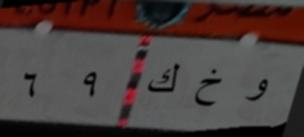6: (16, 71, 49, 99)
9: (81, 66, 105, 100)
kaaf: (146, 58, 184, 99)
khaa: (192, 66, 228, 111)
waw: (243, 74, 272, 104)
